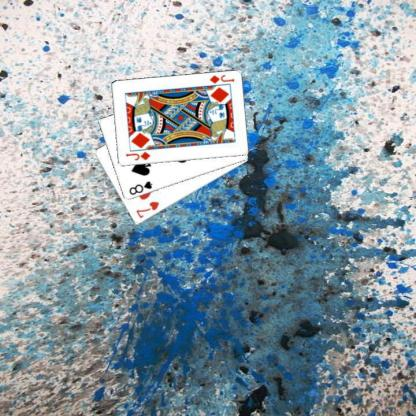7H: (134, 198, 160, 219)
8S: (127, 178, 153, 196)
JD: (123, 149, 151, 162), (207, 72, 235, 85)
